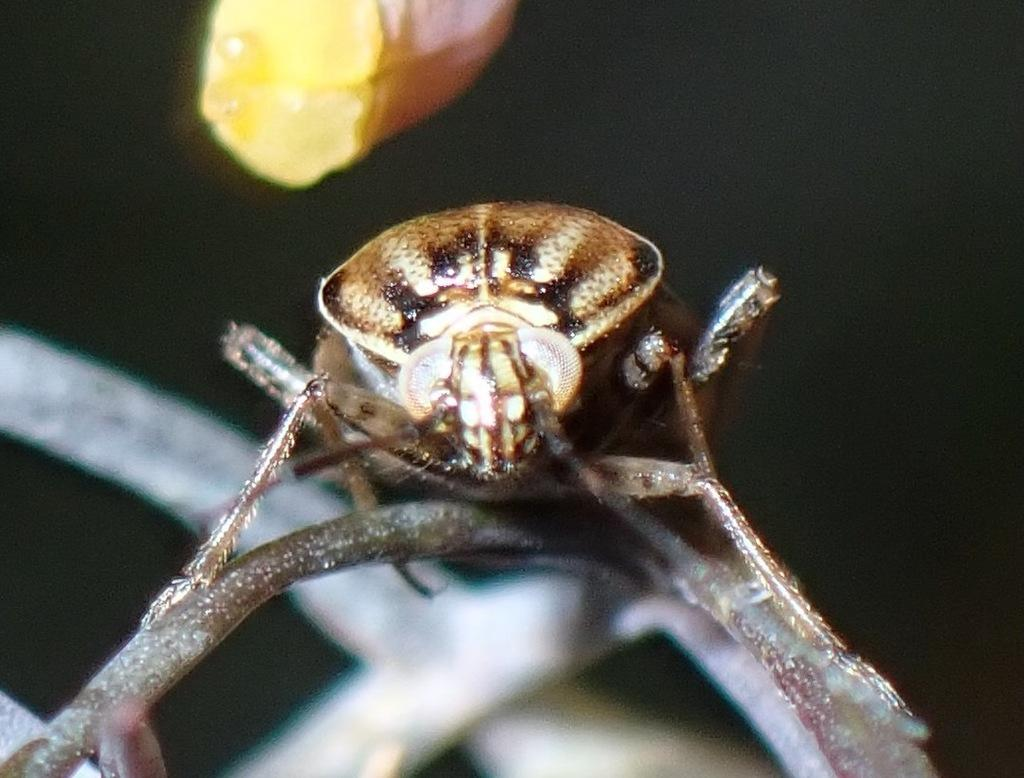plant_bugs: (122, 128, 922, 746)
